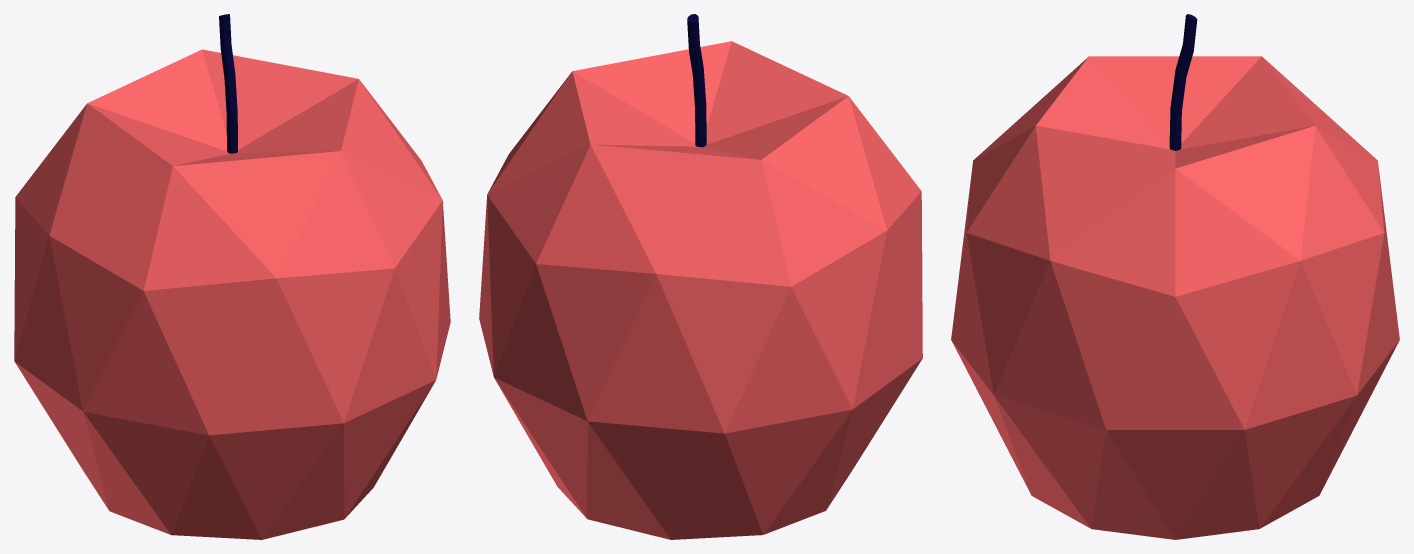
The model's file is Apple_02.fbx.
The picture shows the model from 3 angles, left to right: view 1: azimuth 30°, elevation 25°; view 2: azimuth 150°, elevation 25°; view 3: azimuth 270°, elevation 25°; orthographic projection.
Visible parts, largest first — view 1: Apple; view 2: Apple; view 3: Apple.
Boxes of the visible parts, box(x1,y1,x2,y2) form: Apple: box(14, 14, 450, 539); Apple: box(479, 14, 922, 539); Apple: box(951, 14, 1399, 539).
Bounding box in the file's own units: 13.46 × 16.7 × 13.95.
